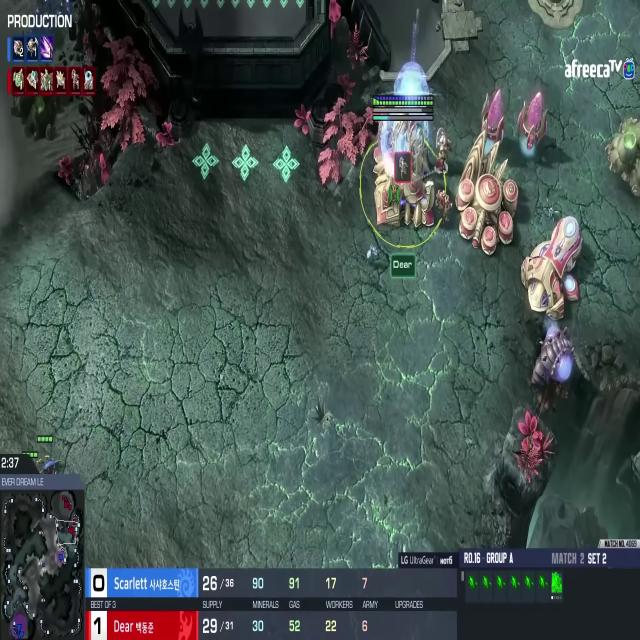adept: (433, 123, 452, 178)
overlord: (526, 318, 580, 420)
zealot: (432, 182, 456, 229)
zergling: (40, 445, 64, 477)
